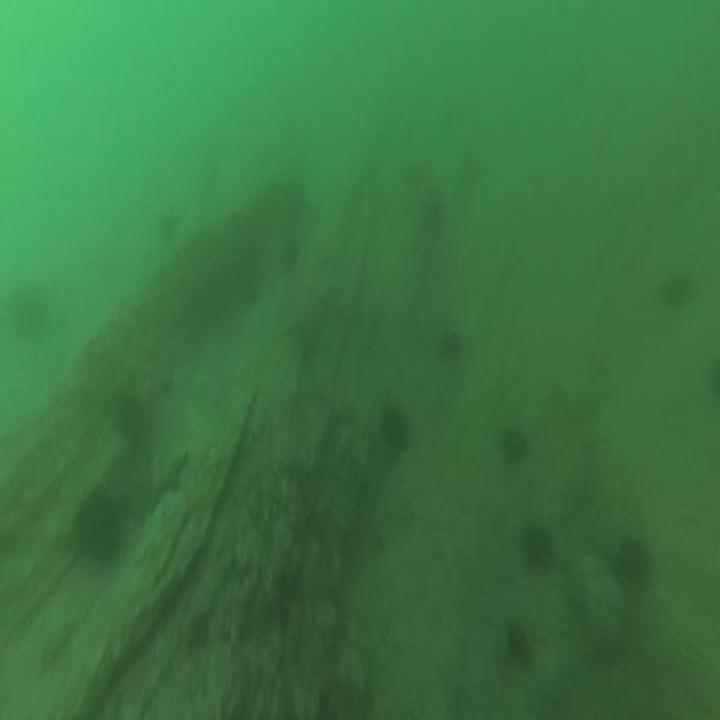echinus: (72, 485, 125, 569), (3, 272, 55, 348), (608, 528, 656, 594), (412, 174, 451, 240), (519, 514, 555, 578), (377, 393, 411, 459), (500, 615, 536, 677), (113, 388, 146, 448), (497, 416, 530, 475), (659, 263, 700, 309), (431, 325, 466, 368), (276, 228, 305, 278), (156, 201, 181, 249), (240, 270, 262, 313)
starfish: (146, 450, 192, 508)
